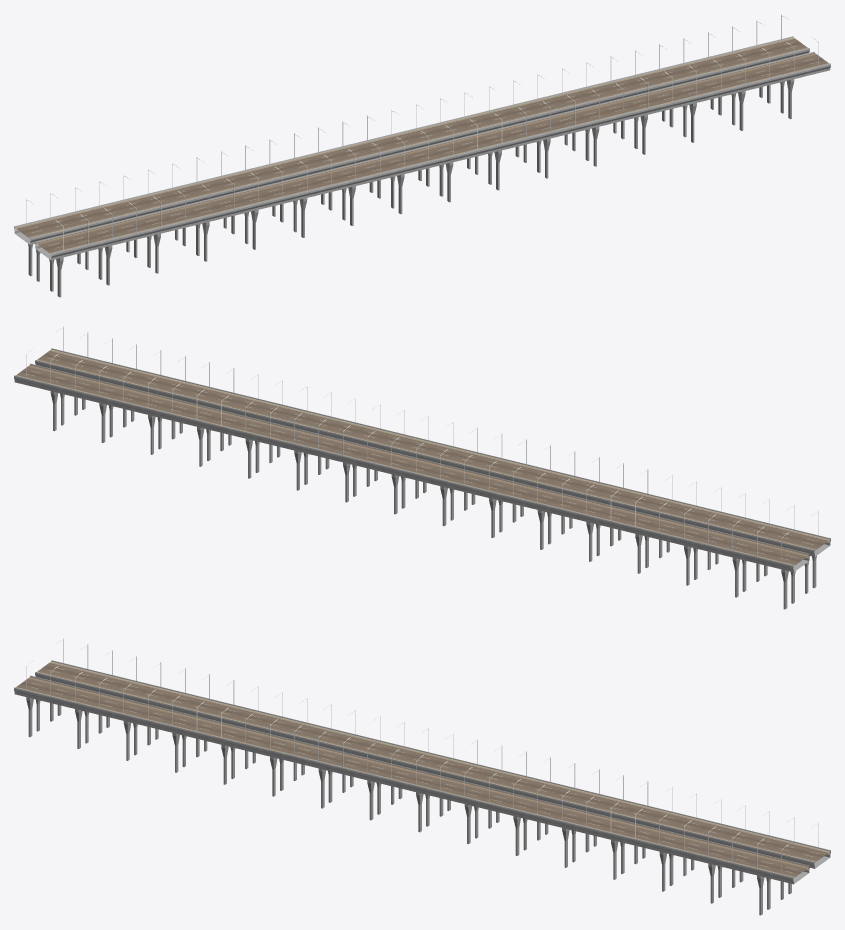
File: SM_Highway_backup.fbx
3 views of the same model, one above another, from view 1: azimuth 30°, elevation 25°; view 2: azimuth 150°, elevation 25°; view 3: azimuth 330°, elevation 25° (orthographic).
Visible parts, largest first — view 1: Cube.013; view 2: Cube.013; view 3: Cube.013.
Boxes of the visible parts, x1=… form: Cube.013: x1=14, y1=14, x2=830, y2=297; Cube.013: x1=14, y1=326, x2=830, y2=609; Cube.013: x1=14, y1=638, x2=830, y2=915.
Bounding box in the file's own units: 64 × 5.79 × 5.37.
